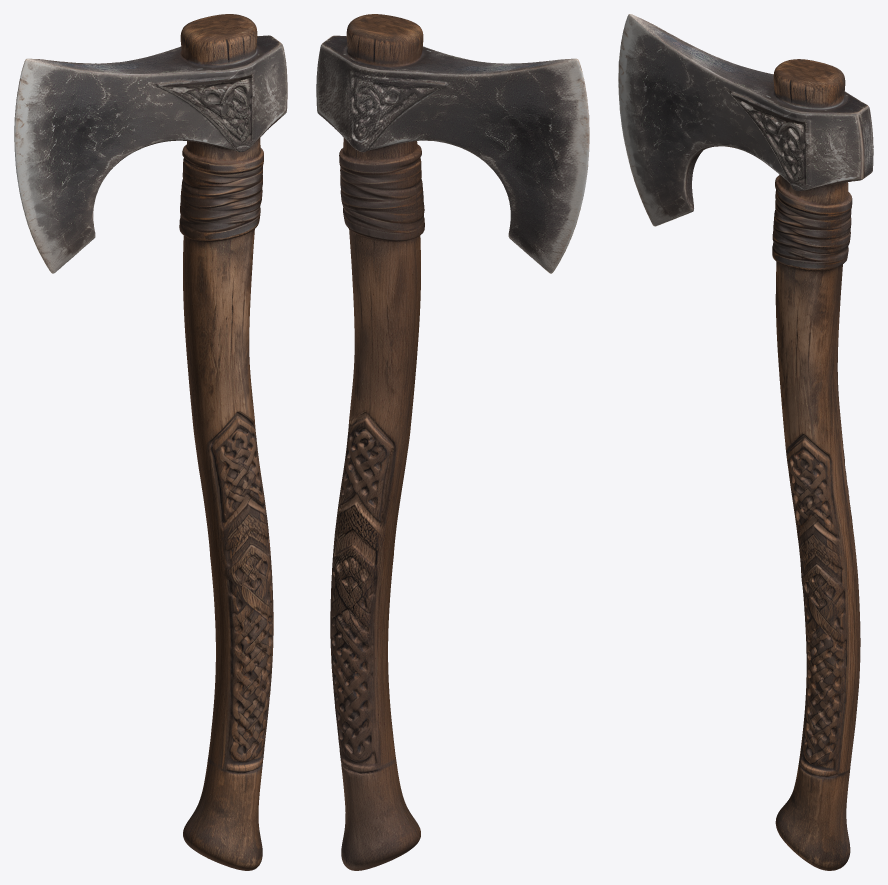
Rendered from Axe.glb.
3 renders of one model, left to right at view 1: azimuth 30°, elevation 25°; view 2: azimuth 150°, elevation 25°; view 3: azimuth 330°, elevation 25°, orthographic. The views are drawn at different scales.
Size of the model in its own units: 0.618 by 1.9 by 0.1574.
Materials: 1 (1 with a texture image).
